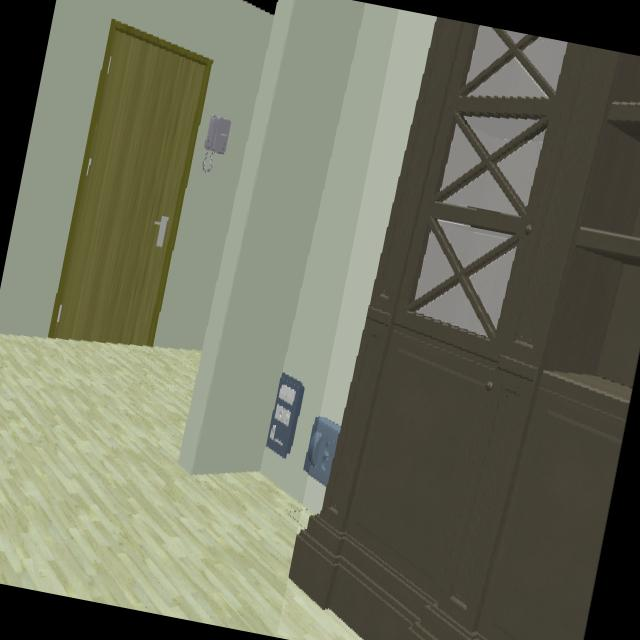bookshelf: (290, 18, 640, 640)
